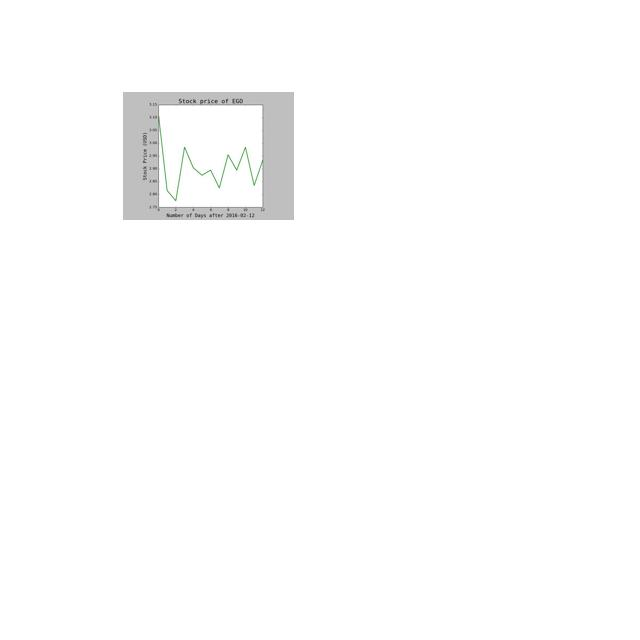Graph: (123, 92, 294, 220)
